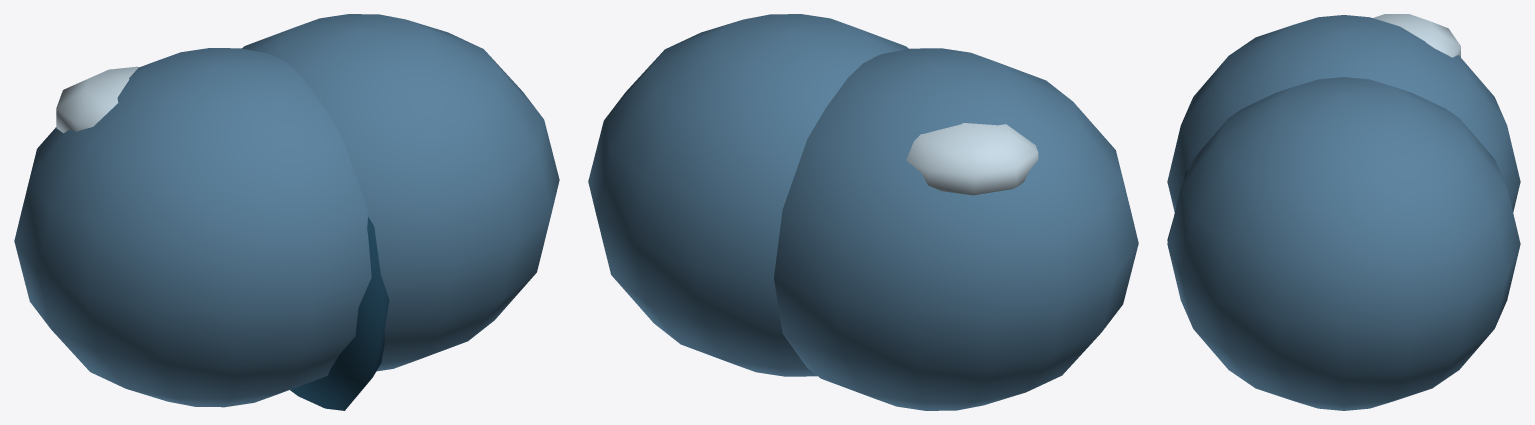
File: newshd-228-f3.glb
3 views of the same model, side by side, from view 1: azimuth 30°, elevation 25°; view 2: azimuth 150°, elevation 25°; view 3: azimuth 270°, elevation 25° (orthographic). The views are drawn at different scales.
Visible parts, largest first — view 1: newshd-228-f3; view 2: newshd-228-f3; view 3: newshd-228-f3.
Part boxes in pixels (<box>): newshd-228-f3: <box>14,14,559,410</box>; newshd-228-f3: <box>588,14,1138,410</box>; newshd-228-f3: <box>1167,14,1520,410</box>.
Size of the model in its own units: 0.5987 by 0.368 by 0.4.
